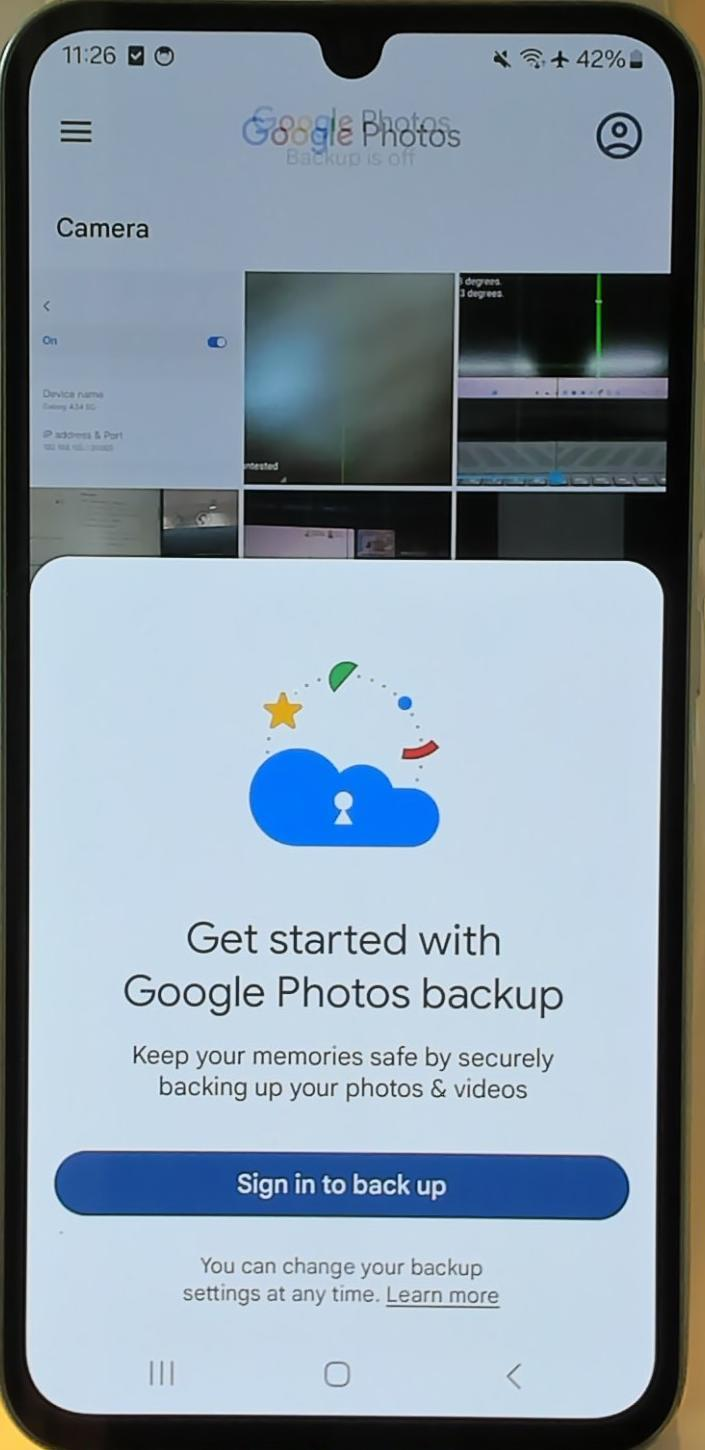CommunBotton: (48, 1146, 638, 1220), (588, 106, 650, 170), (134, 1346, 190, 1398), (494, 1340, 534, 1400), (316, 1352, 358, 1400)
menu: (52, 106, 102, 156)
